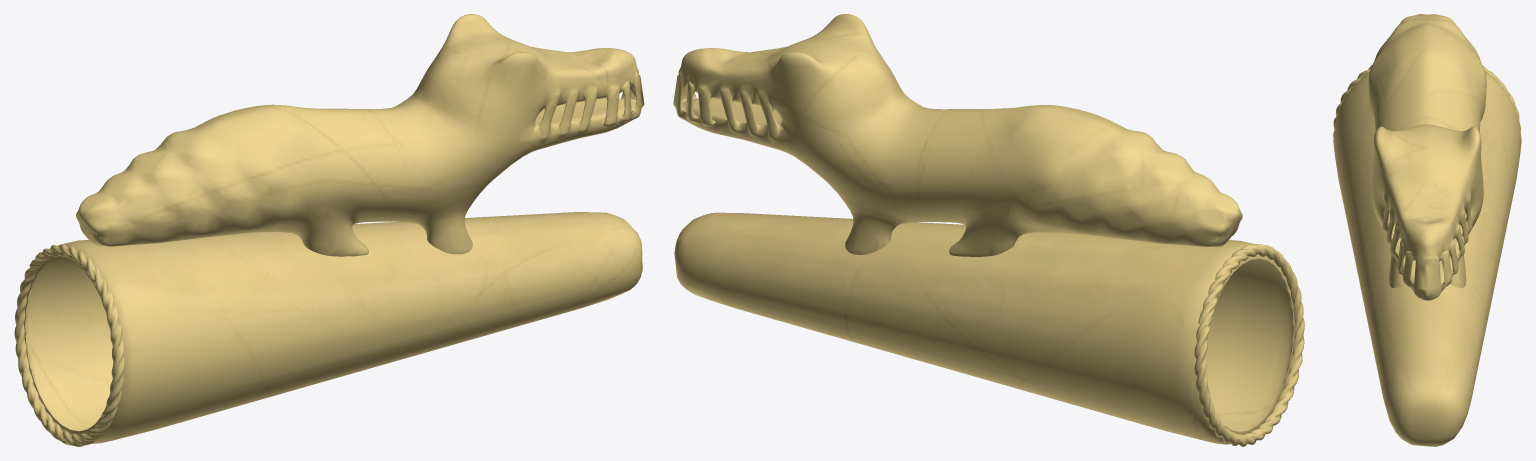
File: zenu_-_remate_de_baston_horizontal_zoomorfo.lod2.glb
3 views of the same model, side by side, from view 1: azimuth 30°, elevation 25°; view 2: azimuth 150°, elevation 25°; view 3: azimuth 270°, elevation 25° (orthographic). The views are drawn at different scales.
Parts seen in each view (by area): view 1: Cylinder, Cylinder.001, Circle.009; view 2: Cylinder, Cylinder.001, Circle.009; view 3: Cylinder, Cylinder.001, Circle.009.
Part boxes in pixels (box(x1,y1,x2,y2)): Cylinder: box(24, 212, 642, 443); Cylinder.001: box(76, 14, 644, 256); Circle.009: box(14, 244, 124, 446); Cylinder: box(674, 212, 1294, 444); Cylinder.001: box(673, 14, 1242, 256); Circle.009: box(1194, 244, 1304, 446); Cylinder: box(1333, 72, 1521, 446); Cylinder.001: box(1368, 14, 1486, 300); Circle.009: box(1333, 65, 1520, 137).
Size of the model in its own units: 6.17 by 3.01 by 1.85.
Materials: 1 (1 with a texture image).
